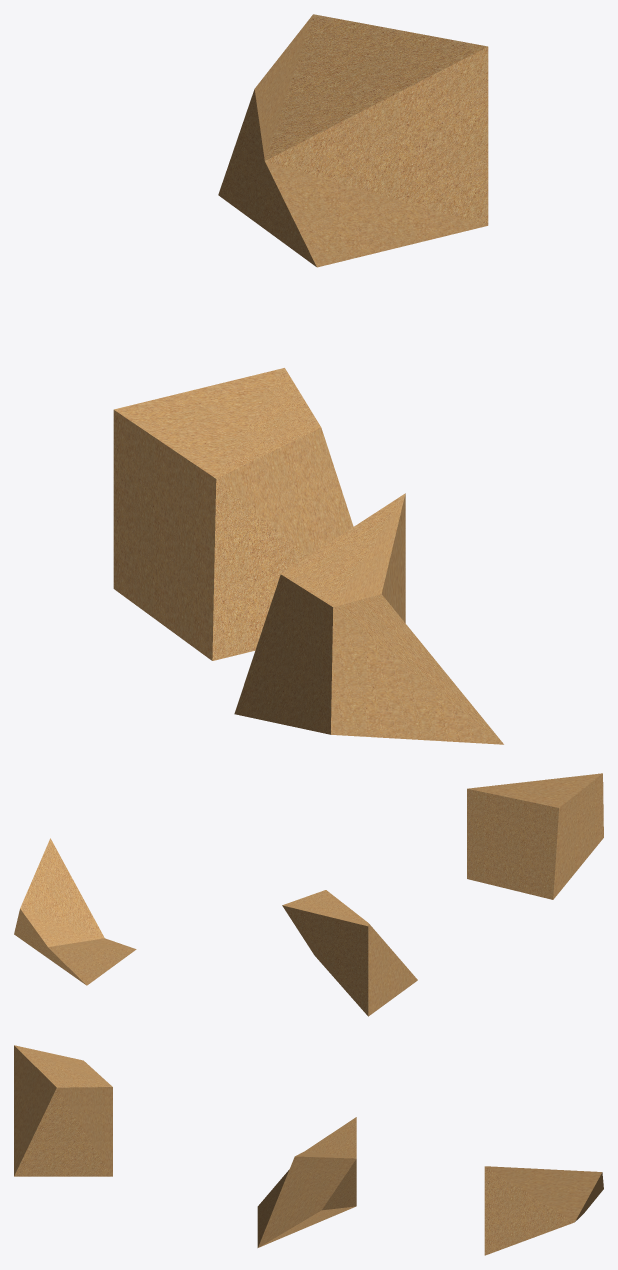
File: SandFragment.fbx
The picture shows the model from 3 angles, top to bottom: view 1: azimuth 30°, elevation 25°; view 2: azimuth 150°, elevation 25°; view 3: azimuth 270°, elevation 25°; orthographic projection. The views are drawn at different scales.
Visible parts, largest first — view 1: Cube.003, Cube, Cube.002; view 2: Cube.002, Cube, Cube.003; view 3: Cube.002, Cube.003, Cube.
Boxes of the visible parts, x1,y1,x2,y2 form: Cube.003: [218, 14, 488, 267]; Cube: [113, 368, 353, 660]; Cube.002: [234, 493, 503, 744]; Cube.002: [467, 773, 603, 899]; Cube: [282, 890, 417, 1016]; Cube.003: [14, 838, 136, 985]; Cube.002: [14, 1045, 112, 1176]; Cube.003: [484, 1166, 603, 1255]; Cube: [257, 1117, 356, 1247].
Bounding box in the file's own units: 733 × 364 × 1193.
